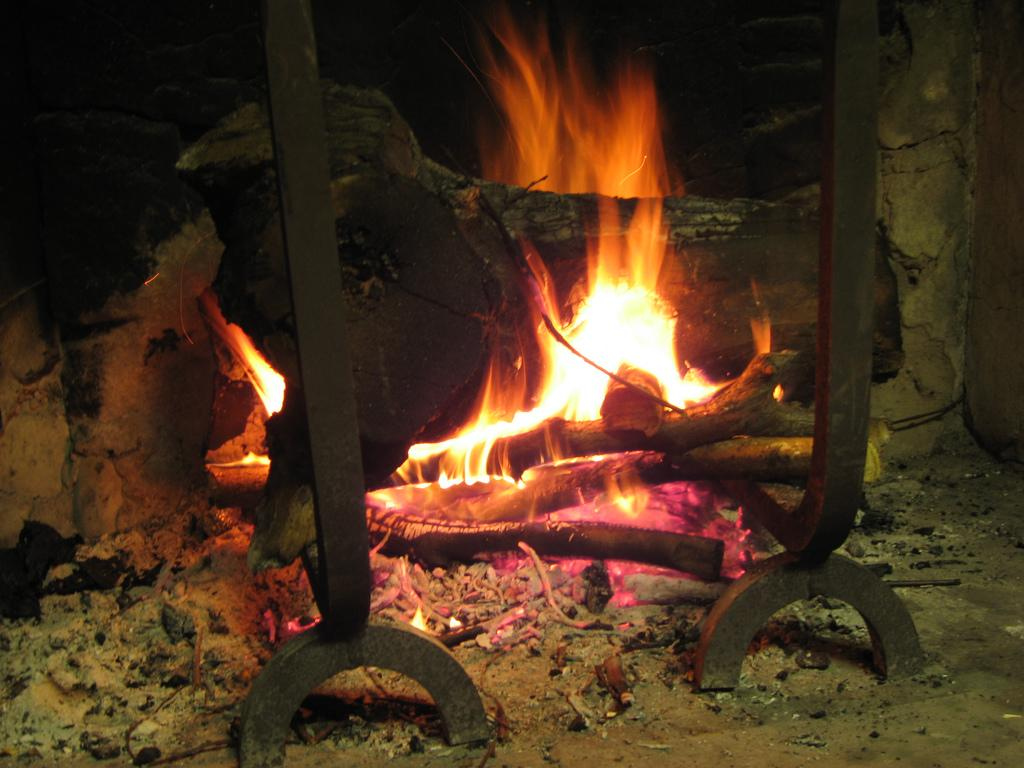fire: (538, 276, 694, 426), (506, 72, 668, 190)
